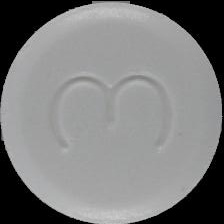61919-328: (0, 0, 224, 224)
